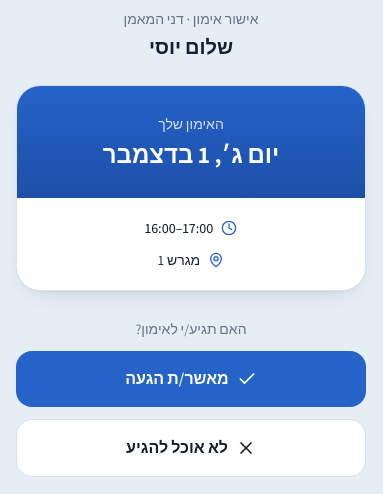
Test: ConfirmPage state machine › shows not-found when saving an answer fails
Click the button "מאשר/ת הגעה" at [191, 379], box [16,351,366,407]
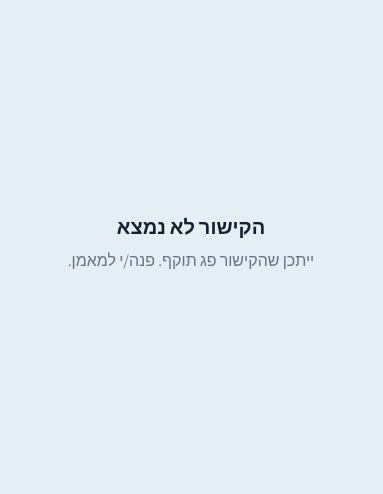
Expected: the heading "הקישור לא נמצא" is shown, [117,214,265,240]
